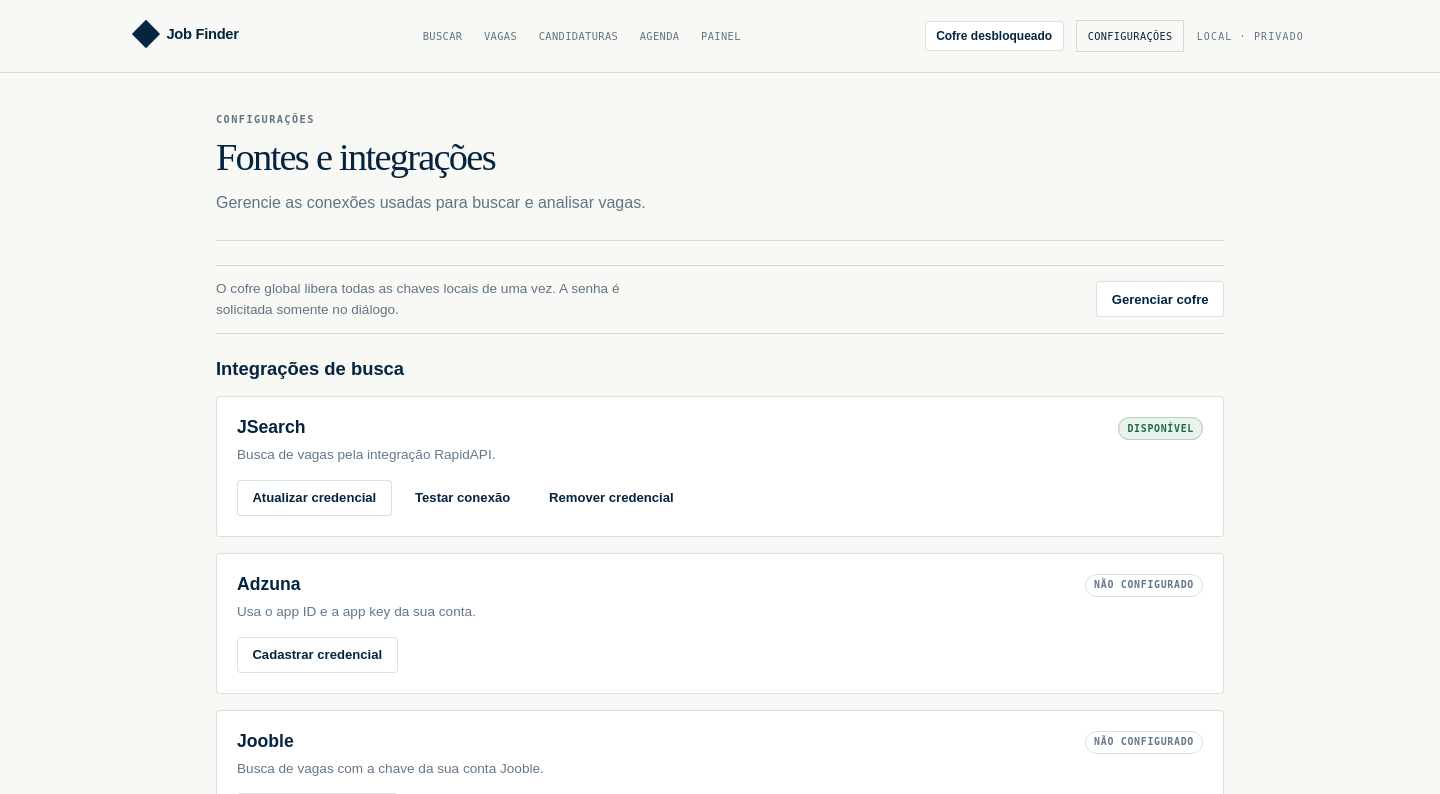
Test: JF-819 fontes e configurações › permite cancelar a confirmação sem testar ou remover a chave
What coordinates should you click on to do the following:
click the button "Remover credencial"
I would click on:
 (611, 498)
Its box is [534, 480, 689, 516].
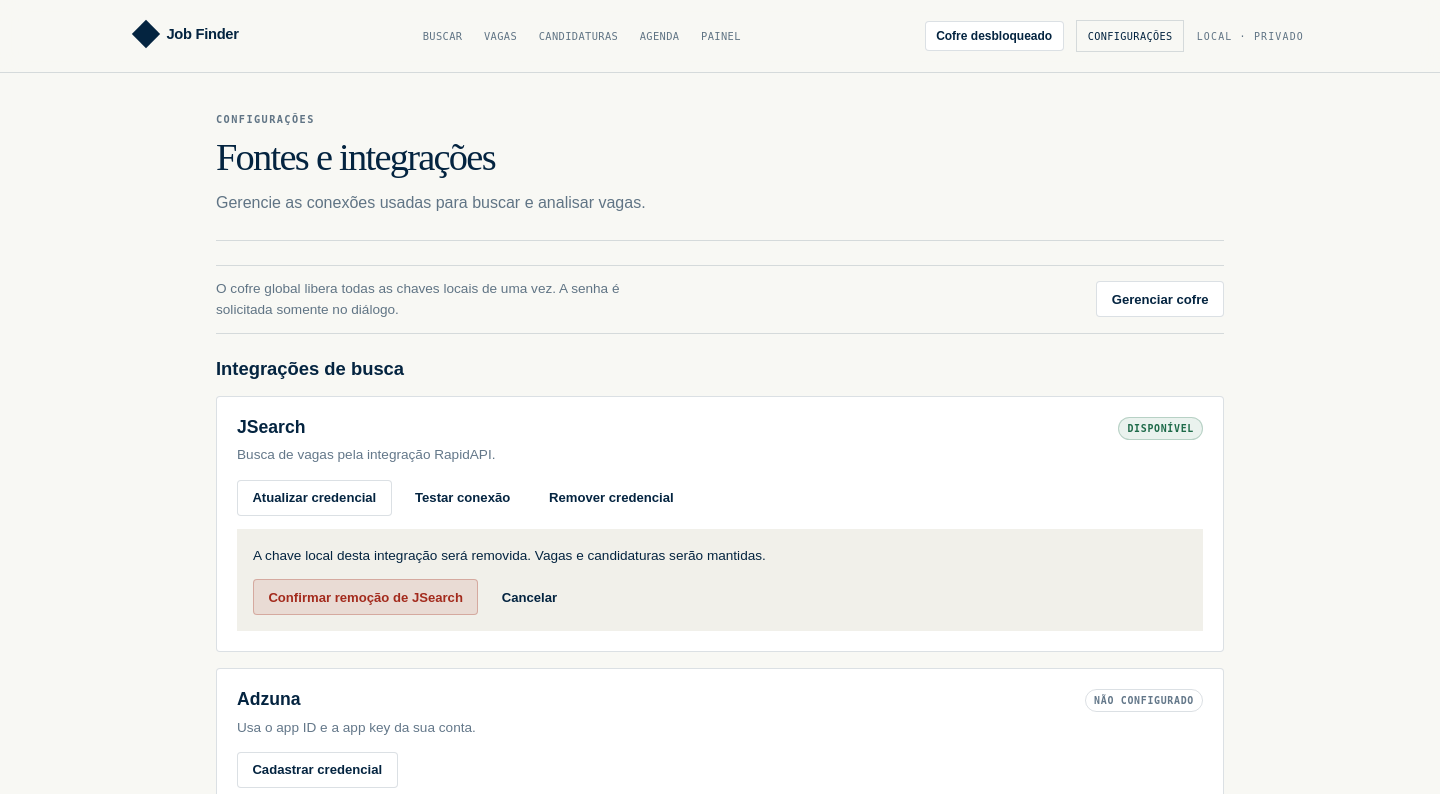
What coordinates should you click on to do the following:
click the button "Cancelar"
I would click on:
 (529, 597)
Its box is [486, 579, 572, 615].
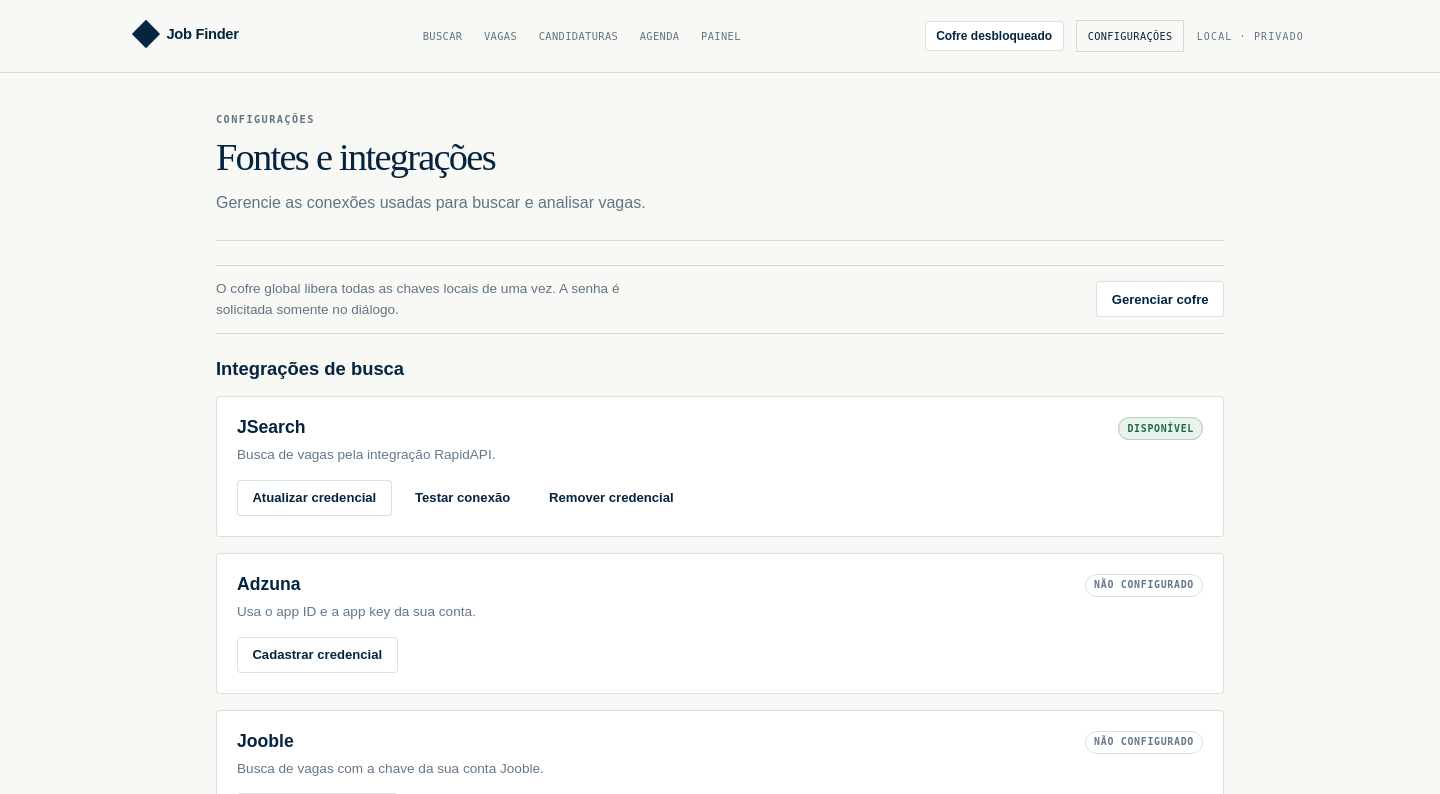
Now the button "Confirmar remoção de JSearch" is gone
